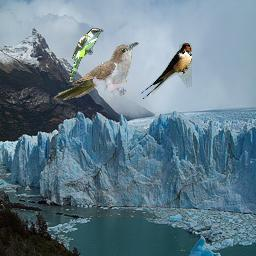Cuckoo: (53, 42, 139, 100), (69, 28, 104, 82)
Swallow: (139, 43, 192, 99)
